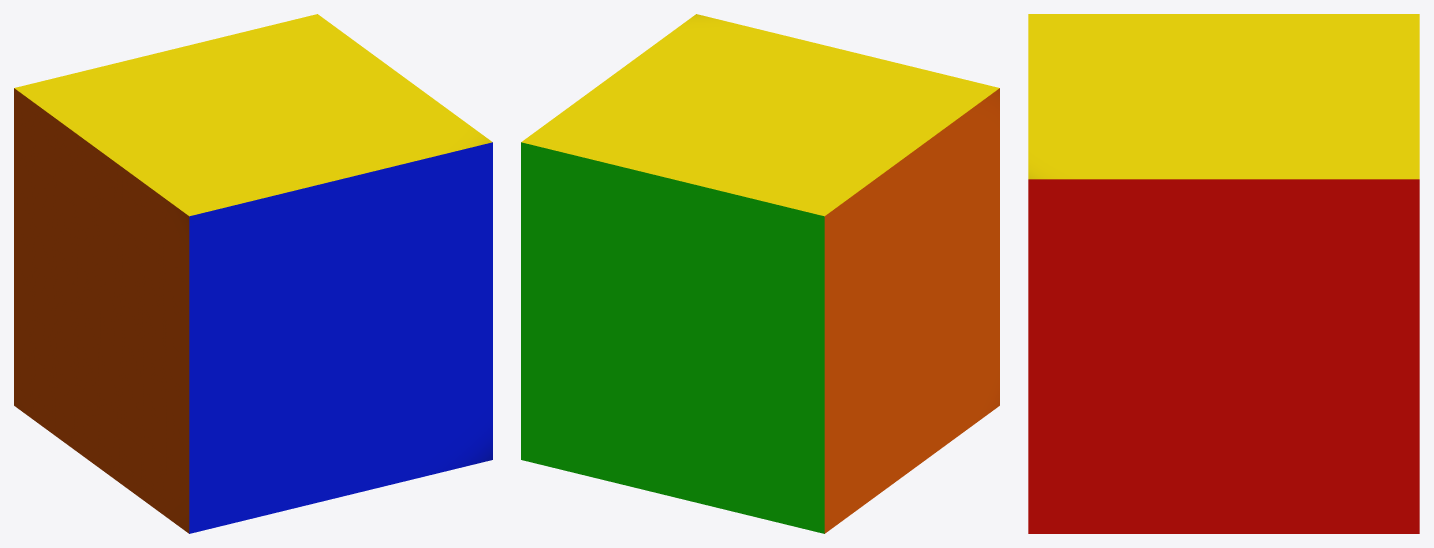
Rendered from High Vertex Cube.fbx.
The picture shows the model from 3 angles, left to right: view 1: azimuth 30°, elevation 25°; view 2: azimuth 150°, elevation 25°; view 3: azimuth 270°, elevation 25°; orthographic projection. The views are drawn at different scales.
Visible parts, largest first — view 1: Cube; view 2: Cube; view 3: Cube.
Boxes of the visible parts, x1=… form: Cube: x1=14, y1=14, x2=492, y2=533; Cube: x1=521, y1=14, x2=999, y2=533; Cube: x1=1028, y1=14, x2=1419, y2=533.
Size of the model in its own units: 200 by 200 by 200.
